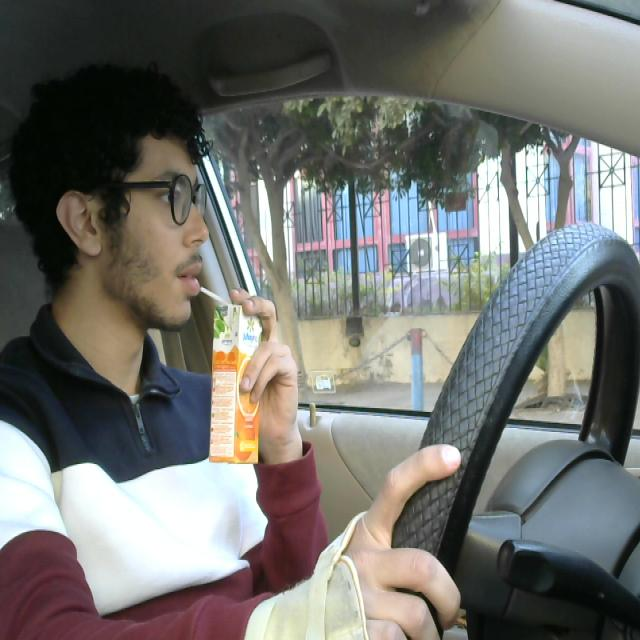drinking: (194, 277, 275, 482)
